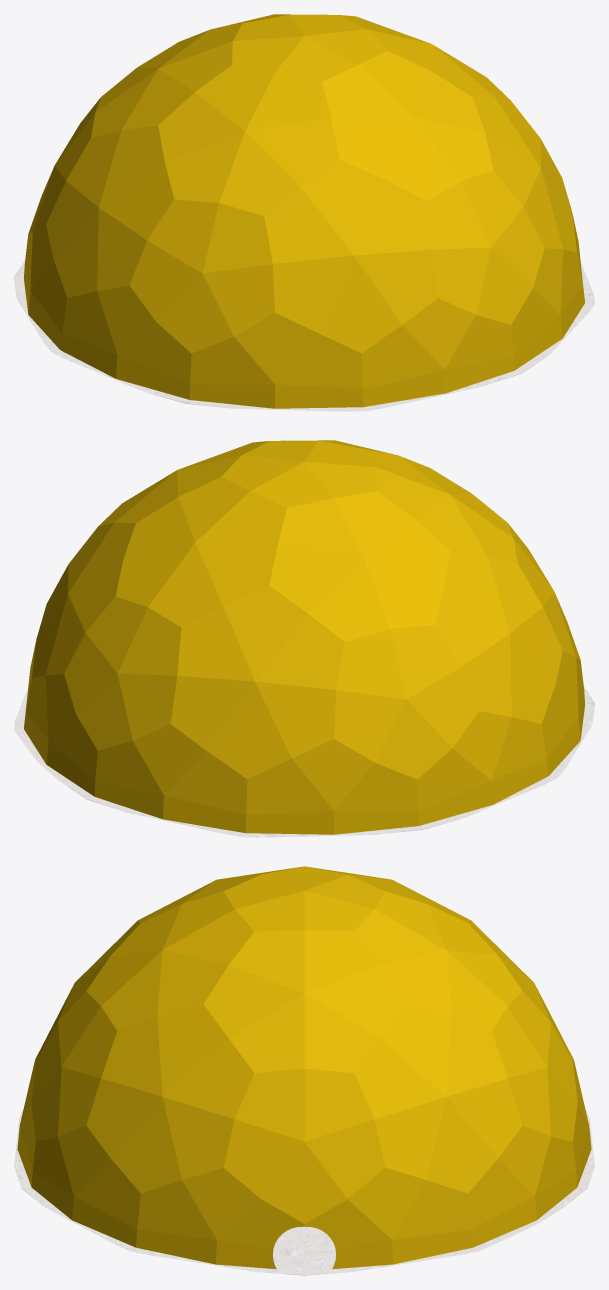
Rendered from EgyptDome.fbx.
3 renders of one model, top to bottom at view 1: azimuth 30°, elevation 25°; view 2: azimuth 150°, elevation 25°; view 3: azimuth 270°, elevation 25°, orthographic.
Visible parts, largest first — view 1: Icosphere, Plane; view 2: Icosphere, Plane; view 3: Icosphere, Plane.
Part boxes in pixels (<box>): Icosphere: <box>24,14,584,408</box>; Plane: <box>14,261,594,411</box>; Icosphere: <box>24,440,584,834</box>; Plane: <box>14,687,594,837</box>; Icosphere: <box>17,866,591,1269</box>; Plane: <box>14,1111,594,1275</box>.
Bounding box in the file's own units: 187 × 90.07 × 183.
3 materials, 2 textured.
